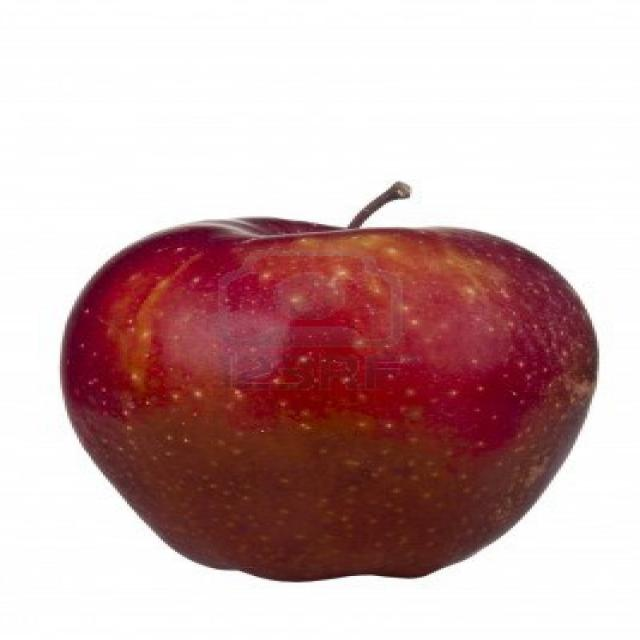Apple: (57, 180, 597, 585)
